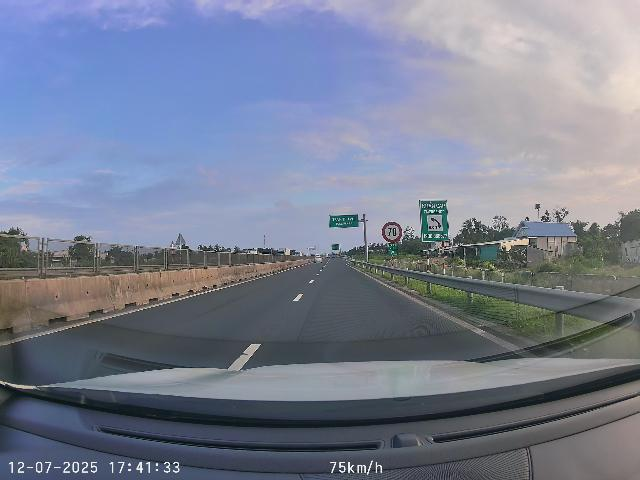127-toc-do-toi-da-70: (382, 221, 403, 242)
